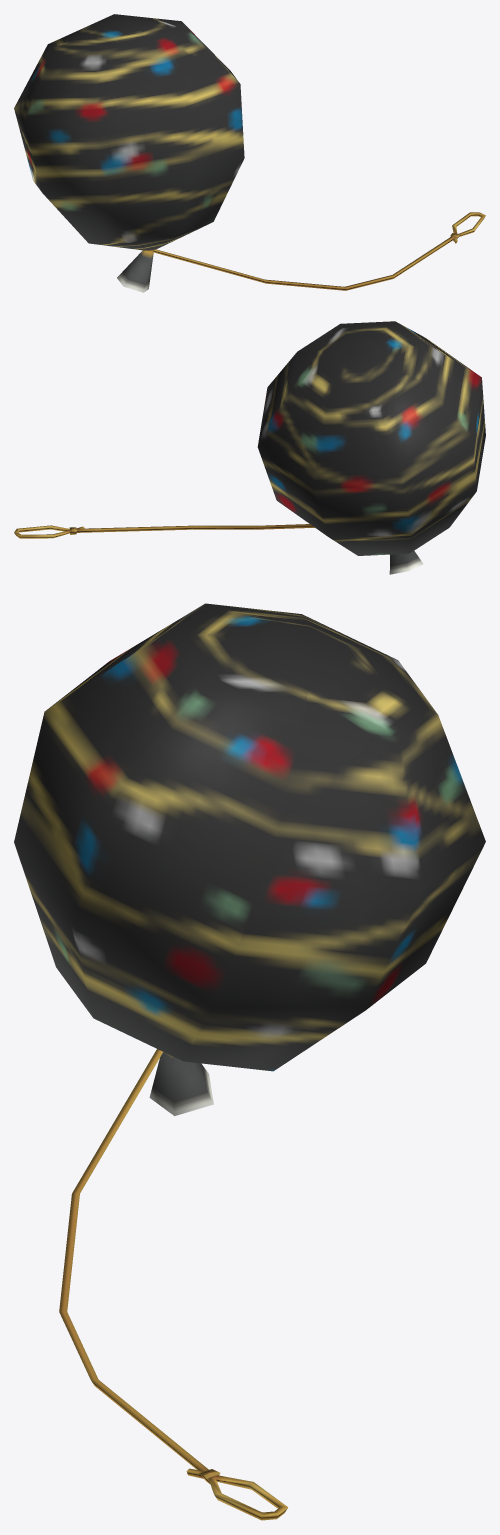
File: jsf_WaterBalloon_03_b.fbx
The picture shows the model from 3 angles, top to bottom: view 1: azimuth 30°, elevation 25°; view 2: azimuth 150°, elevation 25°; view 3: azimuth 270°, elevation 25°; orthographic projection. The views are drawn at different scales.
Visible parts, largest first — view 1: jsf_WaterBalloon_03_b; view 2: jsf_WaterBalloon_03_b; view 3: jsf_WaterBalloon_03_b.
Boxes of the visible parts, x1,y1,x2,y2 form: jsf_WaterBalloon_03_b: (14, 14, 485, 292); jsf_WaterBalloon_03_b: (14, 321, 485, 574); jsf_WaterBalloon_03_b: (14, 603, 485, 1520).
Size of the model in its own units: 24.35 by 14.34 by 11.11.
